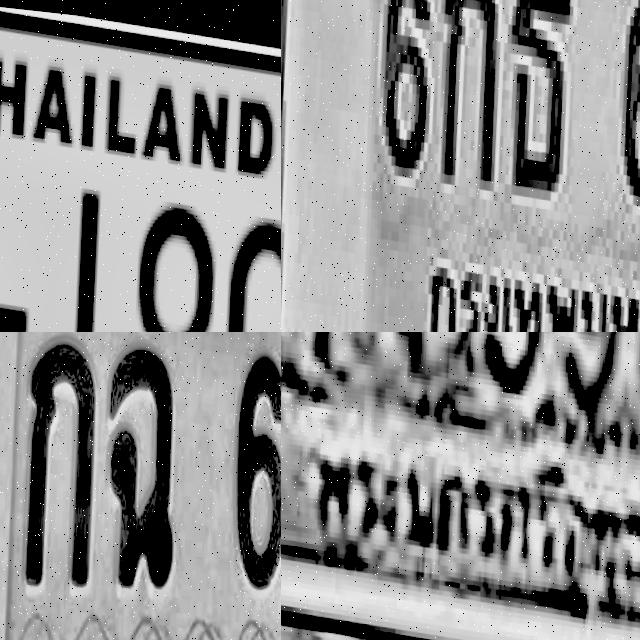license-plate: (281, 0, 640, 332), (281, 332, 640, 640), (0, 0, 281, 332), (0, 332, 281, 640)
